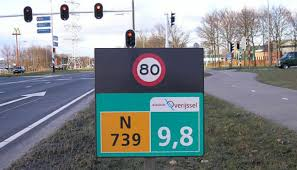Speed_limit_80km: (132, 53, 166, 87)
